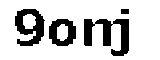9: (12, 4, 47, 49)
j: (111, 5, 134, 60)
n: (80, 13, 113, 48)
o: (48, 17, 76, 49)
